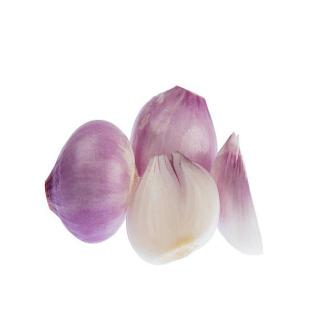Bawang Merah: (41, 118, 137, 246), (124, 150, 223, 271)
